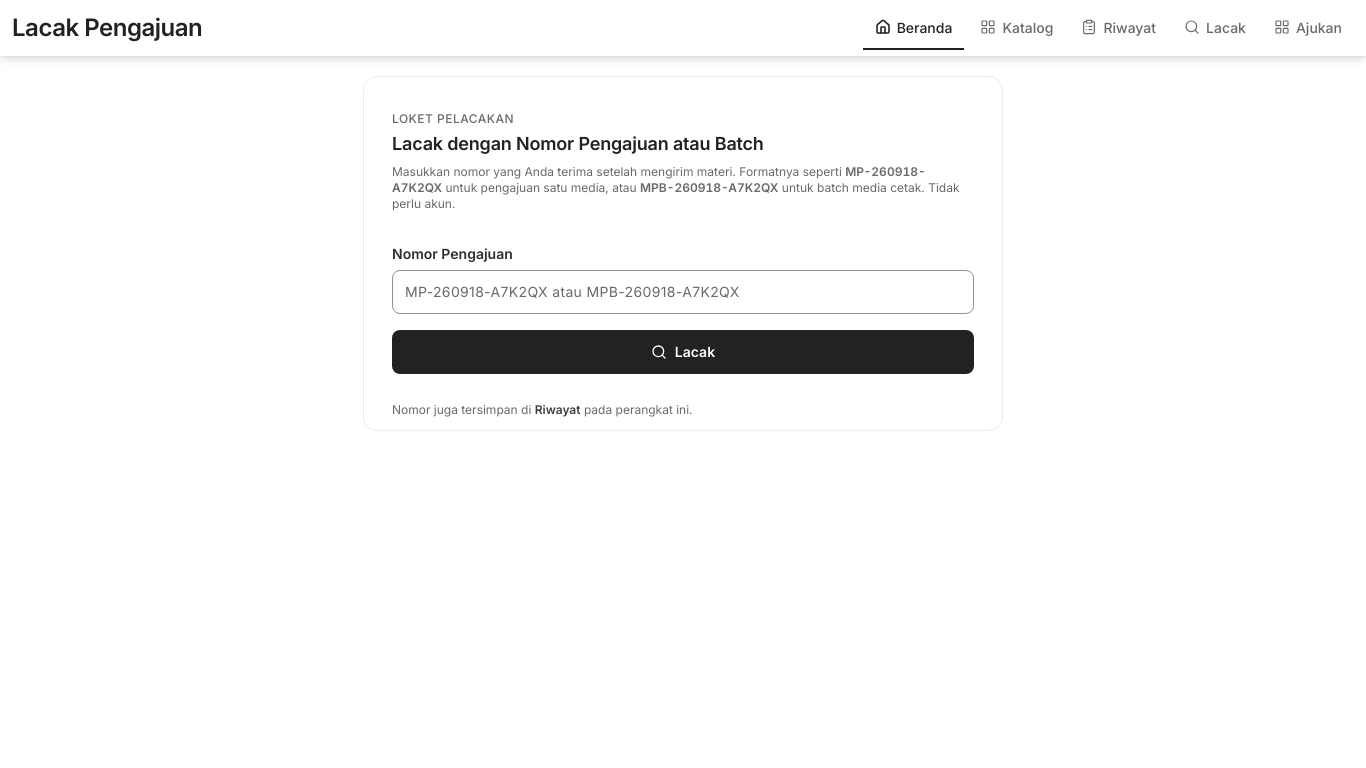
it: TrackSubmissionPage › nomor valid → detail pengajuan ditampilkan
The image size is (1366, 768).
Type "MP-260918-A7K2QX" into the field labelled "Nomor Pengajuan".
click(683, 292); type("MP-260918-A7K2QX")  # box [392, 270, 974, 314]
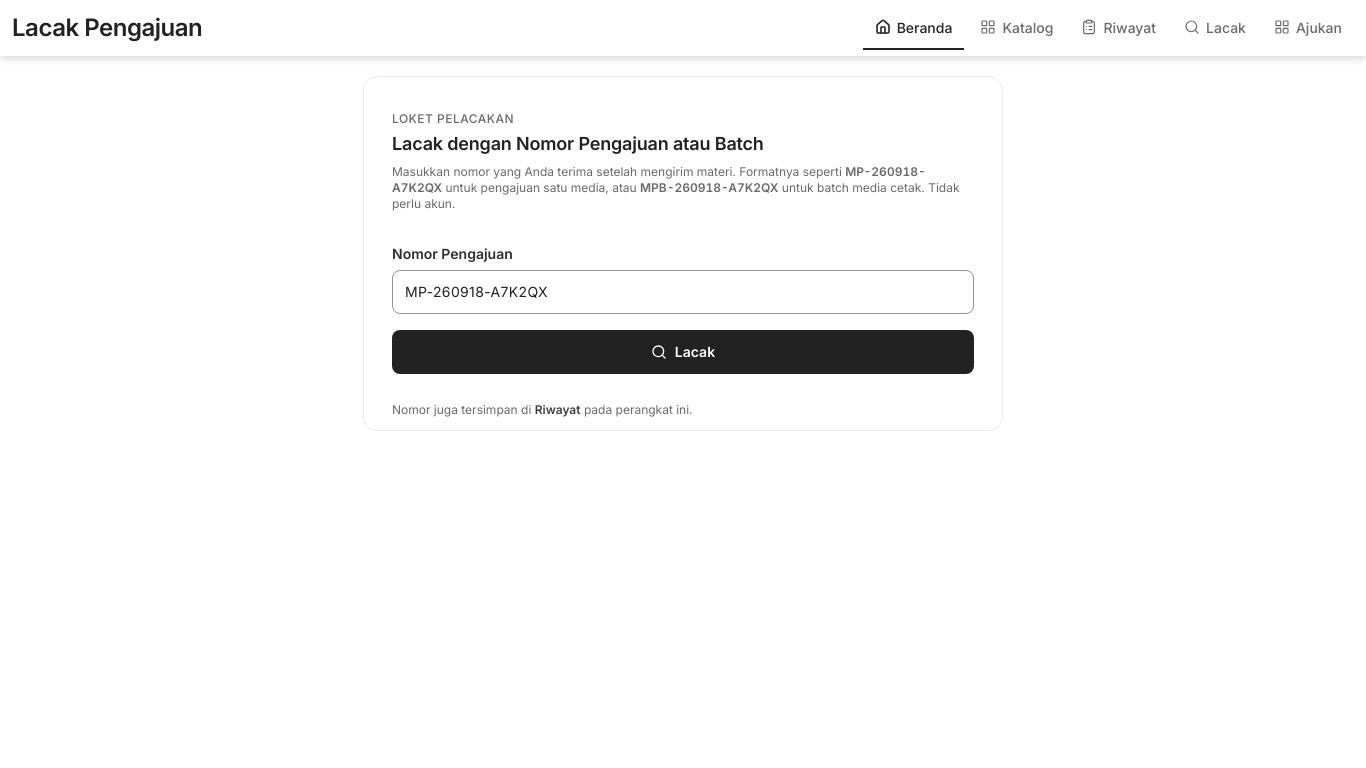
Click the button "Lacak".
click(683, 352)  # box [392, 330, 974, 374]
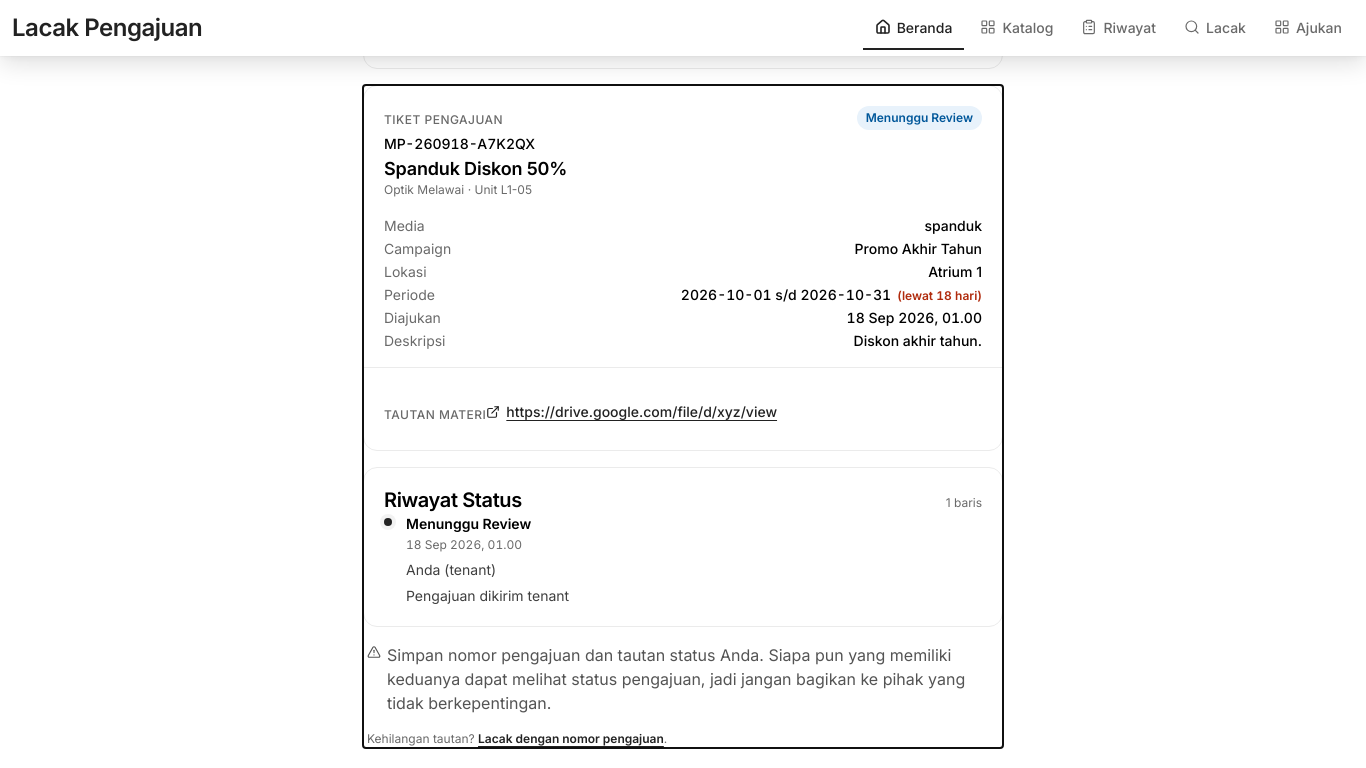
Expected: the heading "Spanduk Diskon 50%" is shown, [384, 158, 567, 180]
Expected: the heading "Riwayat Status" is shown, [384, 488, 522, 513]
